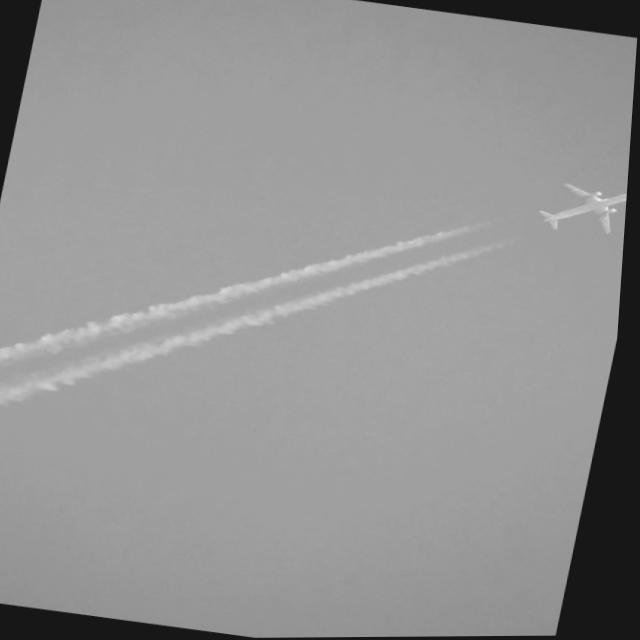aeroplane: (531, 174, 631, 246)
